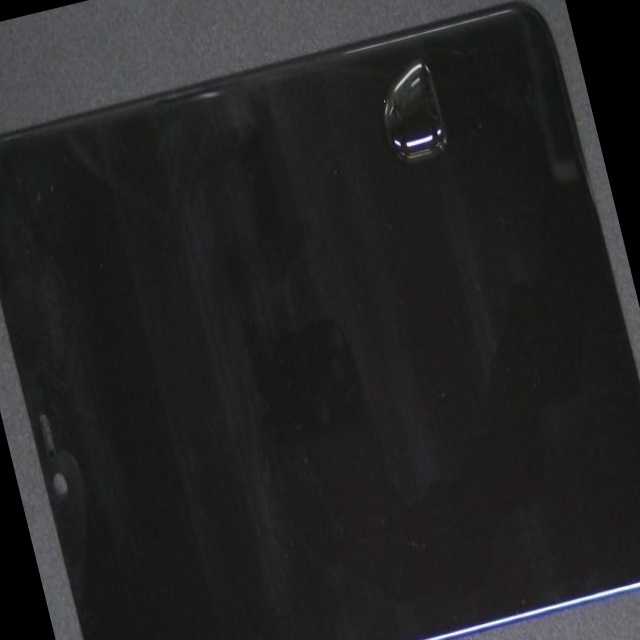oil: (187, 0, 594, 212)
